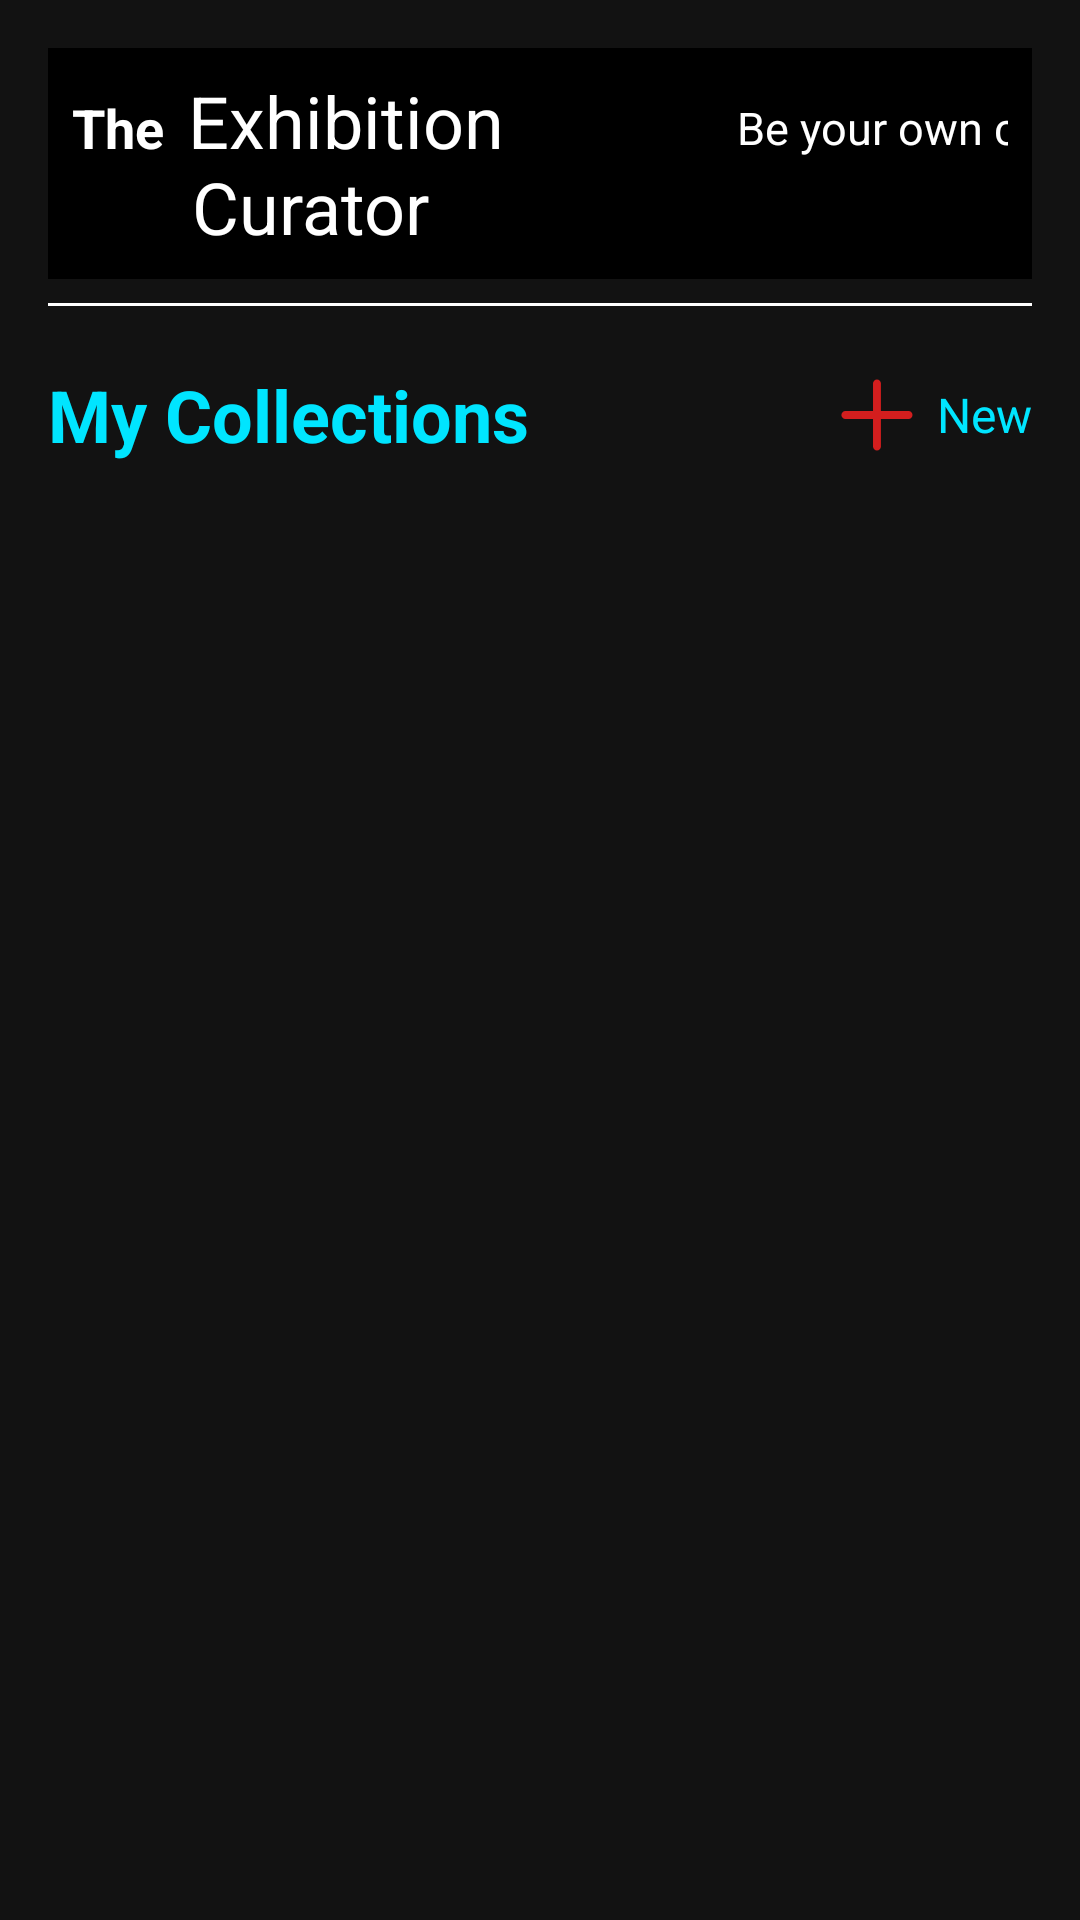

Named icons in this screenshot (1080px×1920px) and their centers, point (x, y):
plus: point (877, 415)
